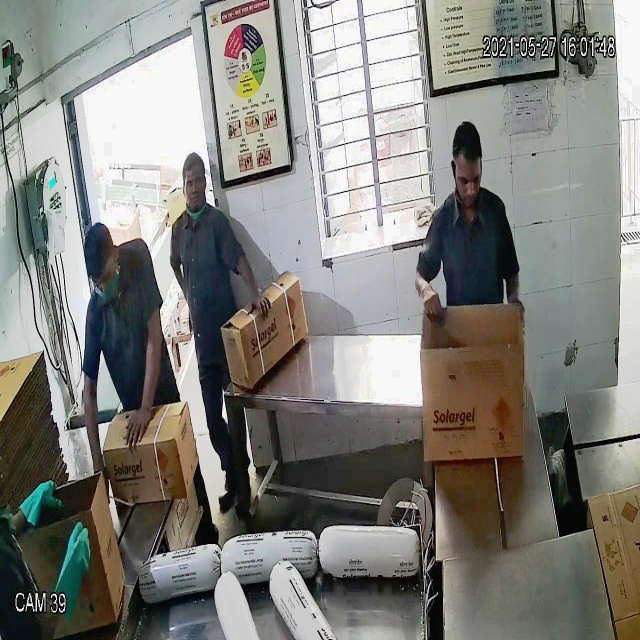Sin_gafas: (449, 159, 487, 195), (177, 172, 208, 197)
